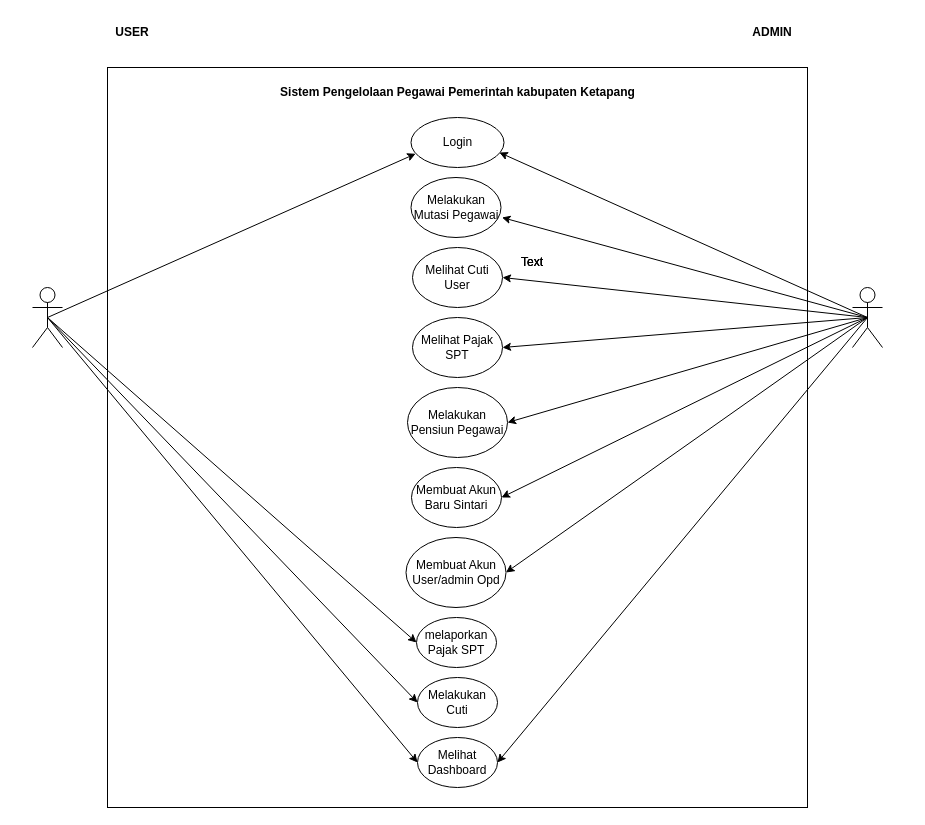
This 925x825 diagram has some shape labels left out. Each missing label, with the centre of its shape:
Admin Admin Bkpsdm: [867,317]
User Admin Opd: [47,317]
